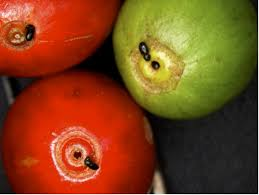broca de cafe: (120, 3, 245, 111), (33, 93, 117, 194), (2, 3, 90, 76)
